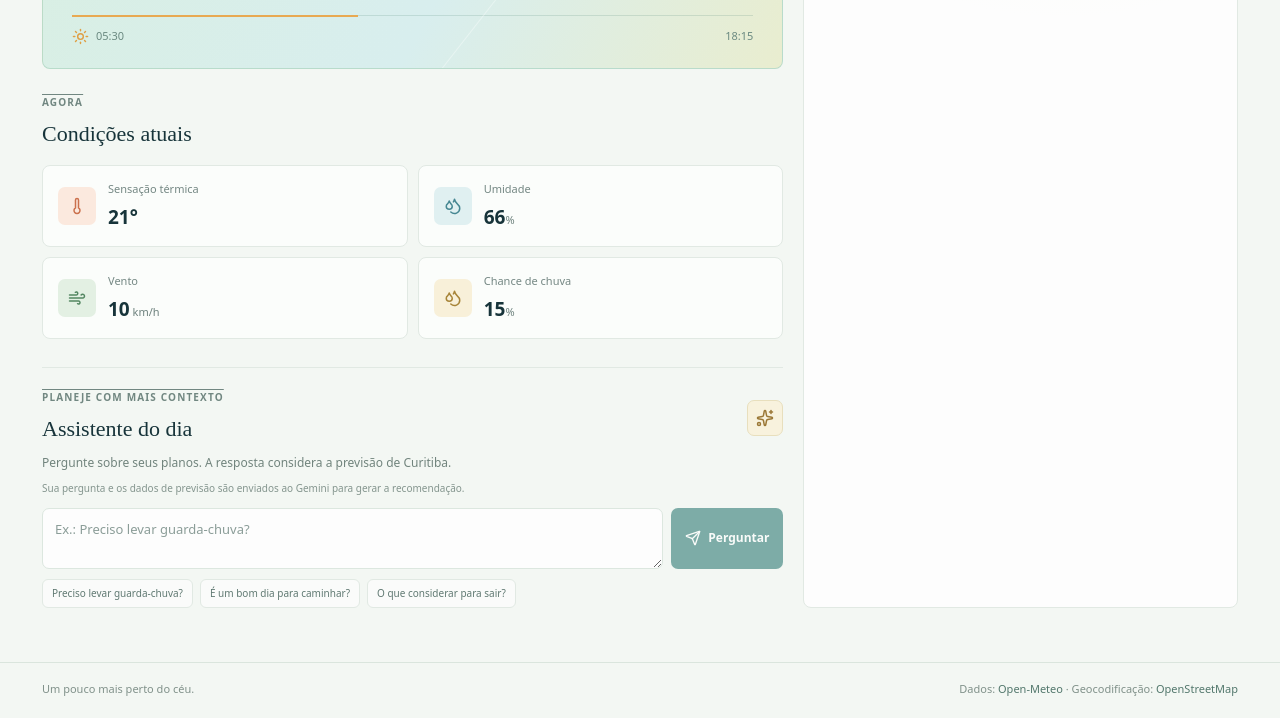
weather dashboard › sends the user's question and current forecast to the assistant
(page scrolled)
Type "Preciso levar guarda-chuva?" into the text box named "Sua pergunta sobre o clima" at [353, 538], box [42,508,663,569]
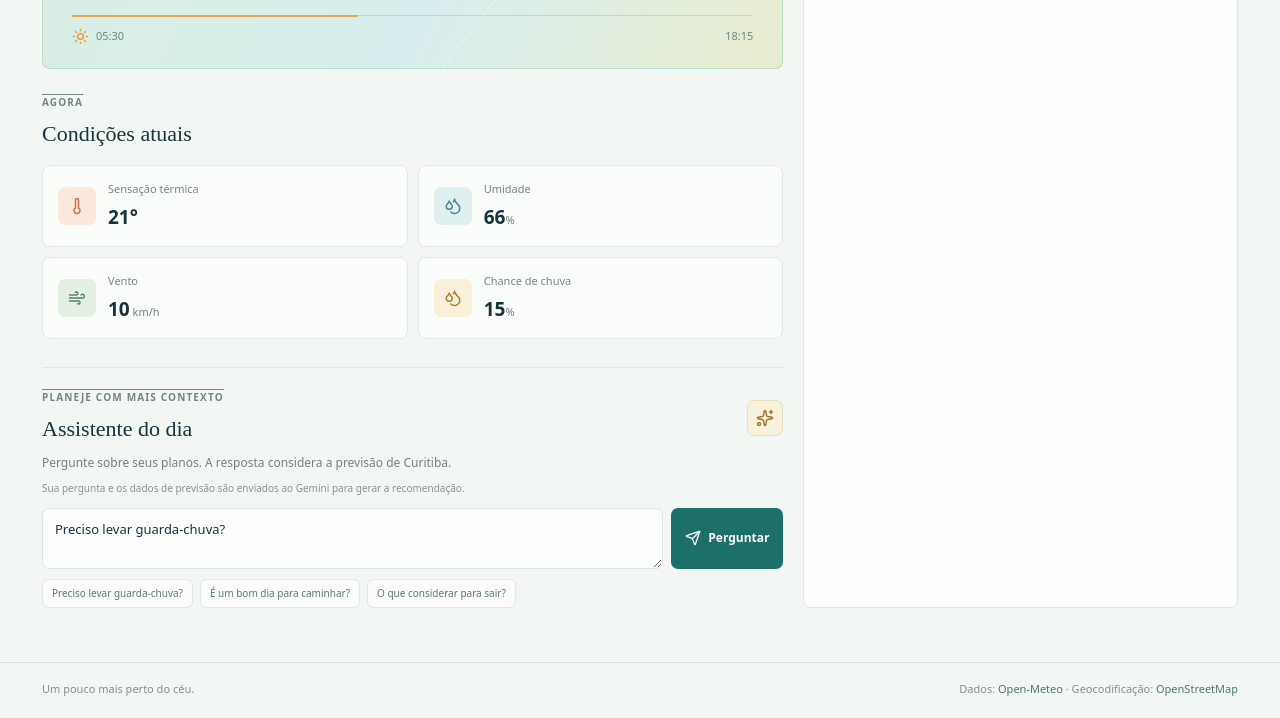
Click the button "Perguntar" at [727, 538], box [671,508,783,569]
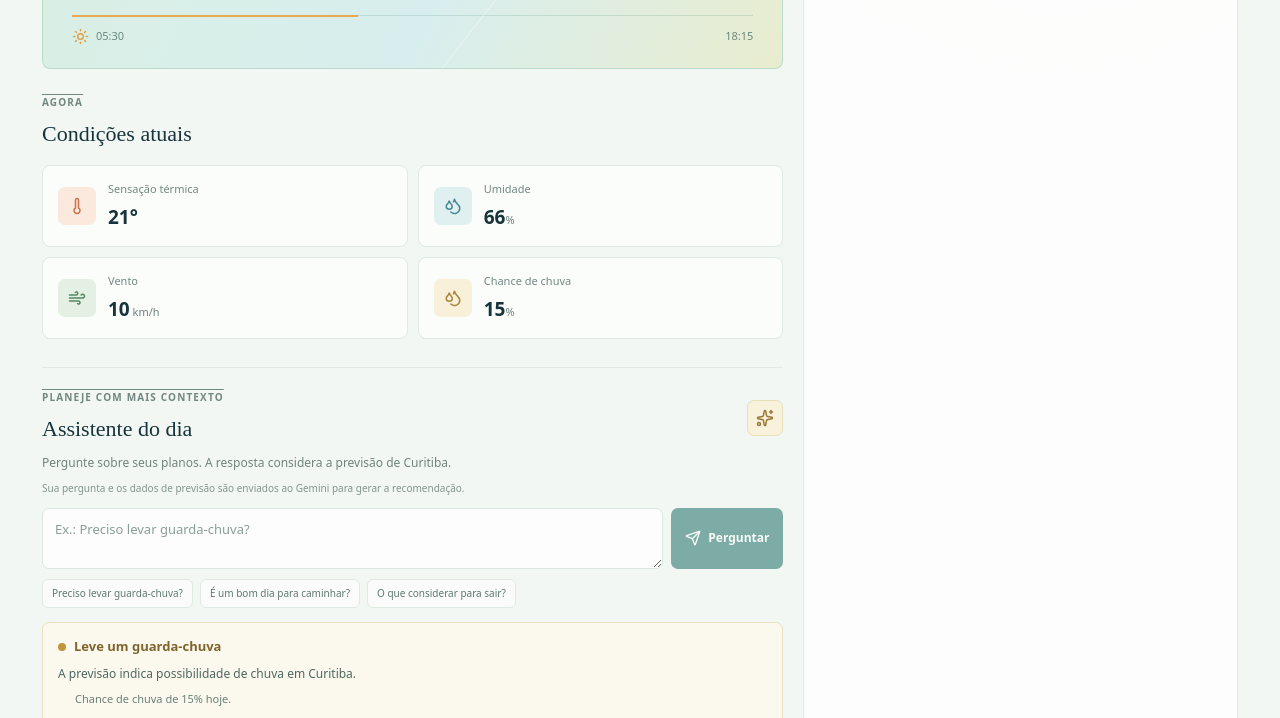
Check: the heading "Leve um guarda-chuva" is shown, box [74,637,222,657]
Check: the list item "Chance de chuva de 15% hoje." is shown, box [75,691,231,706]
